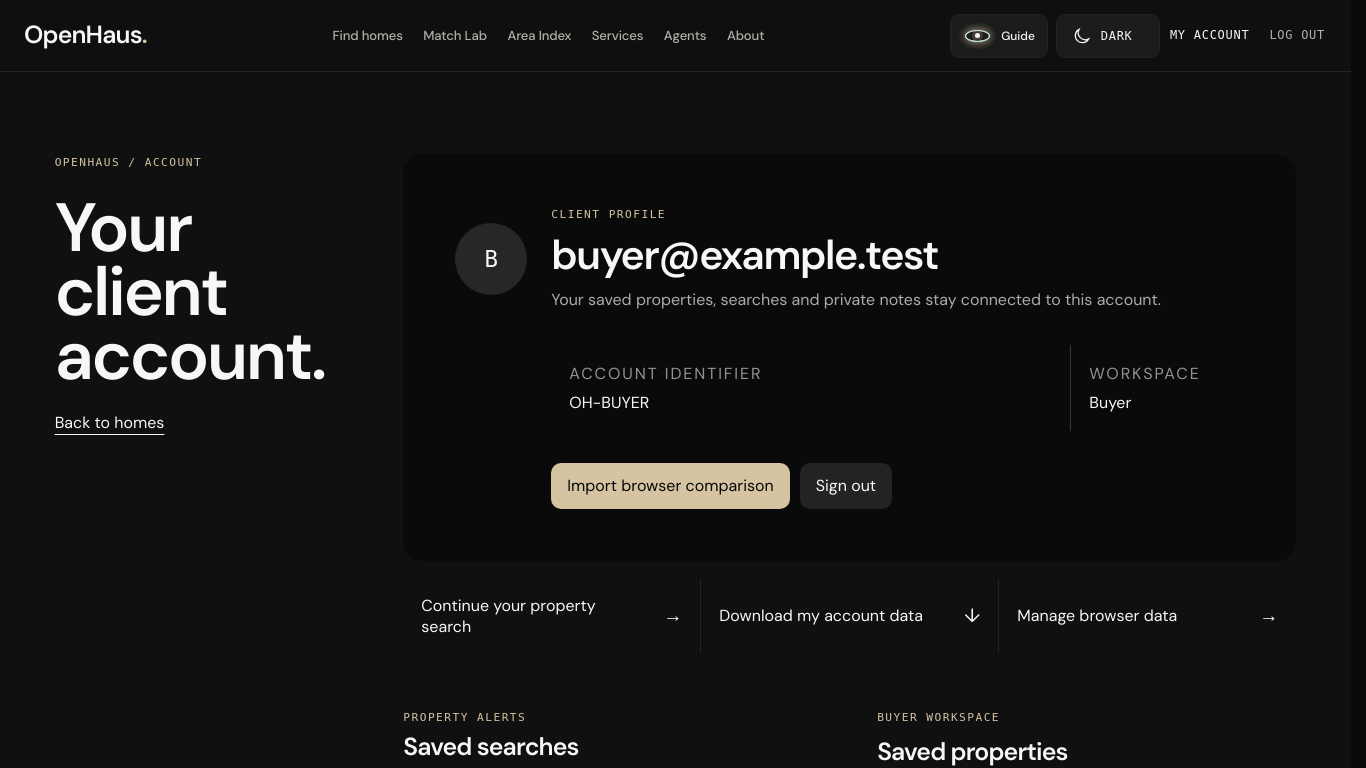
Test: imports the browser comparison into the signed-in account
Click the button "Import browser comparison" at [670, 486], box x1=551 y1=462 x2=790 y2=508
(page scrolled)
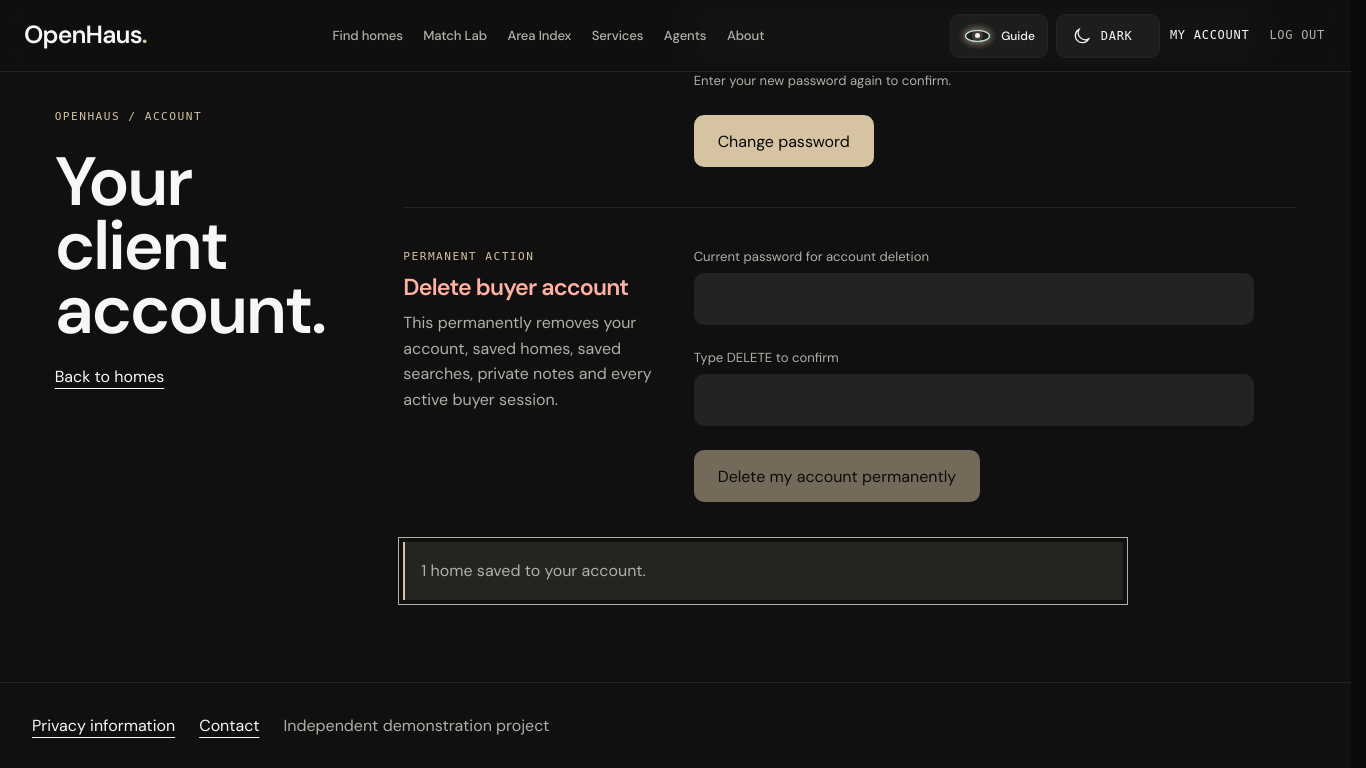
Result: the message shows "1 home saved" at x1=421 y1=560 x2=646 y2=581
